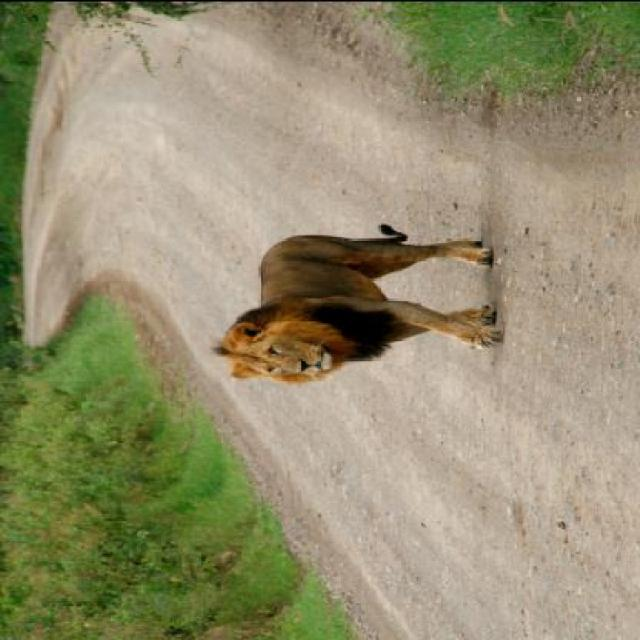Lion: (206, 212, 506, 388)
